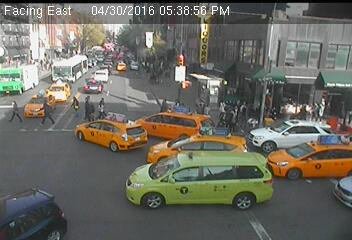neg: (169, 143, 201, 186), (264, 164, 296, 207), (226, 166, 254, 203), (83, 161, 107, 193), (34, 159, 58, 190), (121, 161, 145, 192), (190, 39, 213, 71), (73, 35, 95, 66), (129, 39, 148, 66), (36, 30, 54, 55), (248, 57, 266, 81), (238, 29, 255, 51), (296, 34, 312, 56), (29, 200, 45, 222), (113, 213, 129, 235), (308, 129, 323, 149), (314, 73, 326, 89)
pos: (79, 92, 100, 120), (38, 98, 59, 125), (6, 98, 26, 124), (226, 103, 245, 129), (94, 92, 112, 116), (154, 91, 172, 115), (308, 100, 325, 122), (174, 98, 187, 117), (69, 93, 82, 109)
